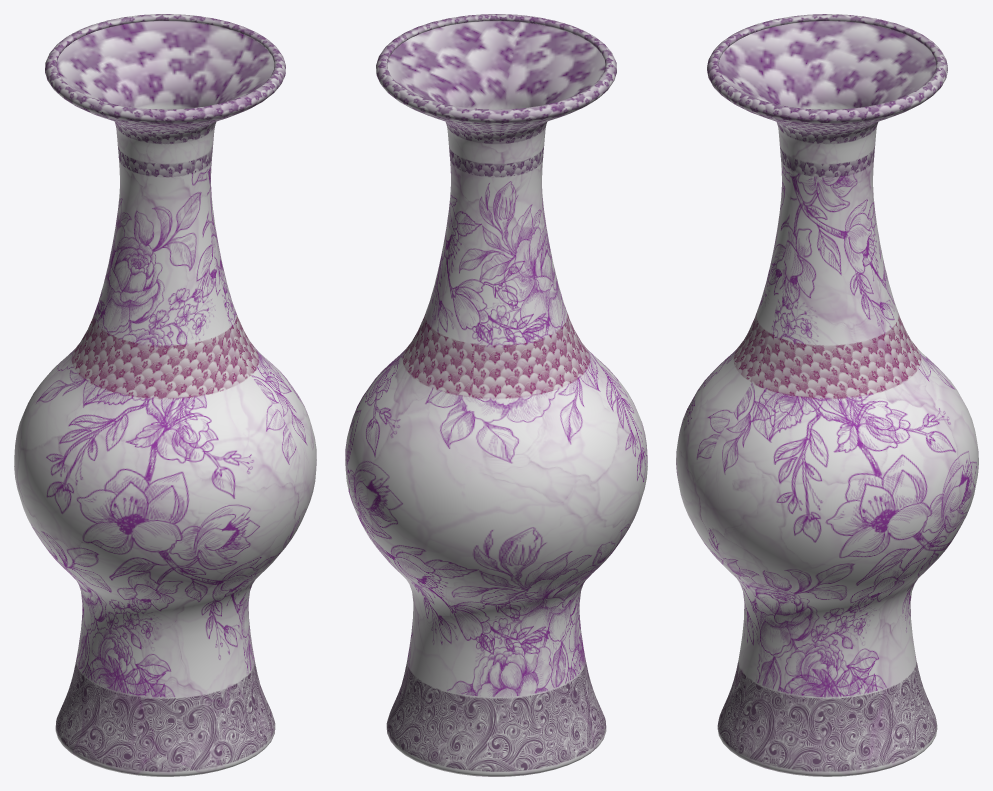
Rendered from ceramic_model.glb.
3 views of the same model, side by side, from view 1: azimuth 30°, elevation 25°; view 2: azimuth 150°, elevation 25°; view 3: azimuth 270°, elevation 25° (orthographic).
Parts seen in each view (by area): view 1: pCylinder4; view 2: pCylinder4; view 3: pCylinder4.
Part boxes in pixels (left/top/right/bottom): pCylinder4: left=14, top=14, right=316, bottom=776; pCylinder4: left=345, top=14, right=647, bottom=776; pCylinder4: left=676, top=14, right=978, bottom=776.
Bounding box in the file's own units: 0.4034 × 0.9861 × 0.4033.
Materials: 1 (1 with a texture image).
